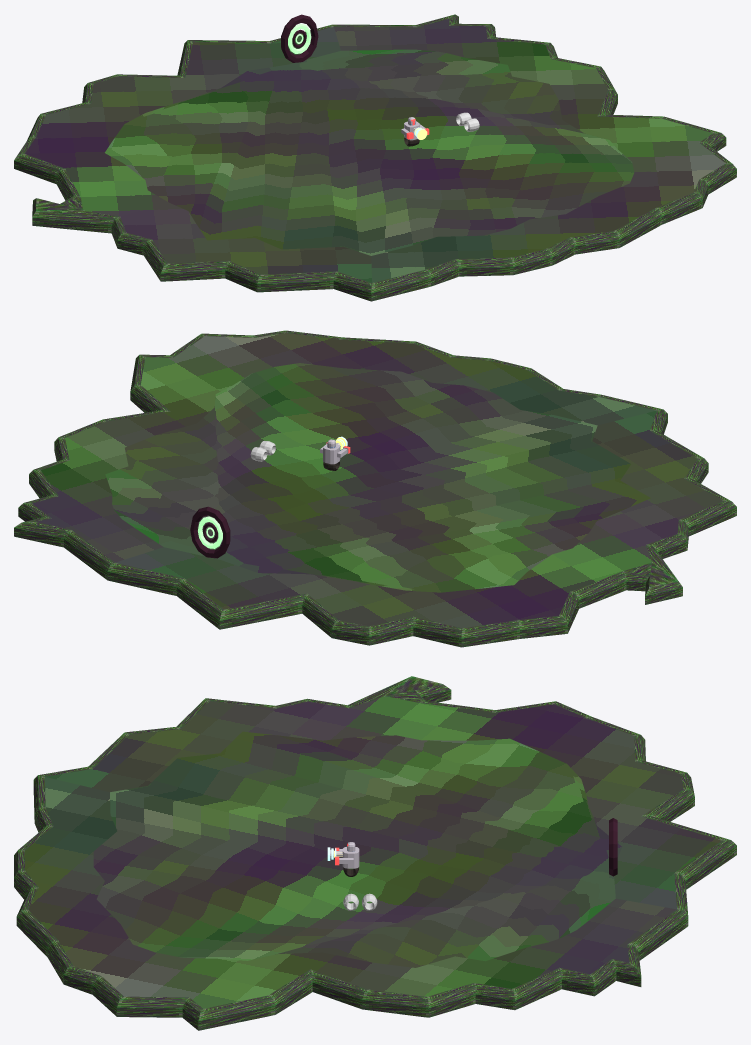
The model's file is IAEP project.fbx.
3 renders of one model, top to bottom at view 1: azimuth 30°, elevation 25°; view 2: azimuth 150°, elevation 25°; view 3: azimuth 270°, elevation 25°, orthographic. The views are drawn at different scales.
Visible parts, largest first — view 1: base, portal; view 2: base, portal; view 3: base.
Part boxes in pixels (x1=…): base: x1=14, y1=14, x2=736, y2=301; portal: x1=281, y1=14, x2=318, y2=62; base: x1=14, y1=330, x2=736, y2=647; portal: x1=190, y1=506, x2=230, y2=558; base: x1=14, y1=676, x2=736, y2=1030.
Bounding box in the file's own units: 3154 × 302 × 2822.
